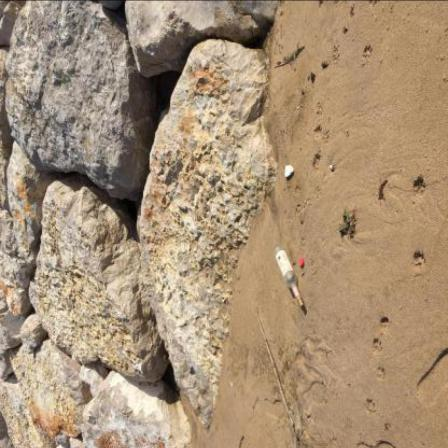Bottle: (274, 245, 303, 302)
Bottle cap: (299, 259, 305, 267)
Other litter: (340, 212, 351, 232)
Plastic bag - wrapper: (290, 404, 303, 448)
Styrofoam piece: (286, 165, 295, 178)
